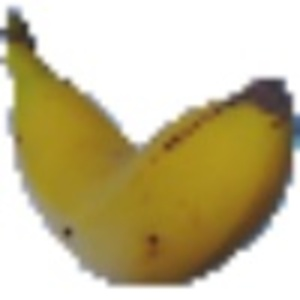banana: (4, 10, 297, 289)
